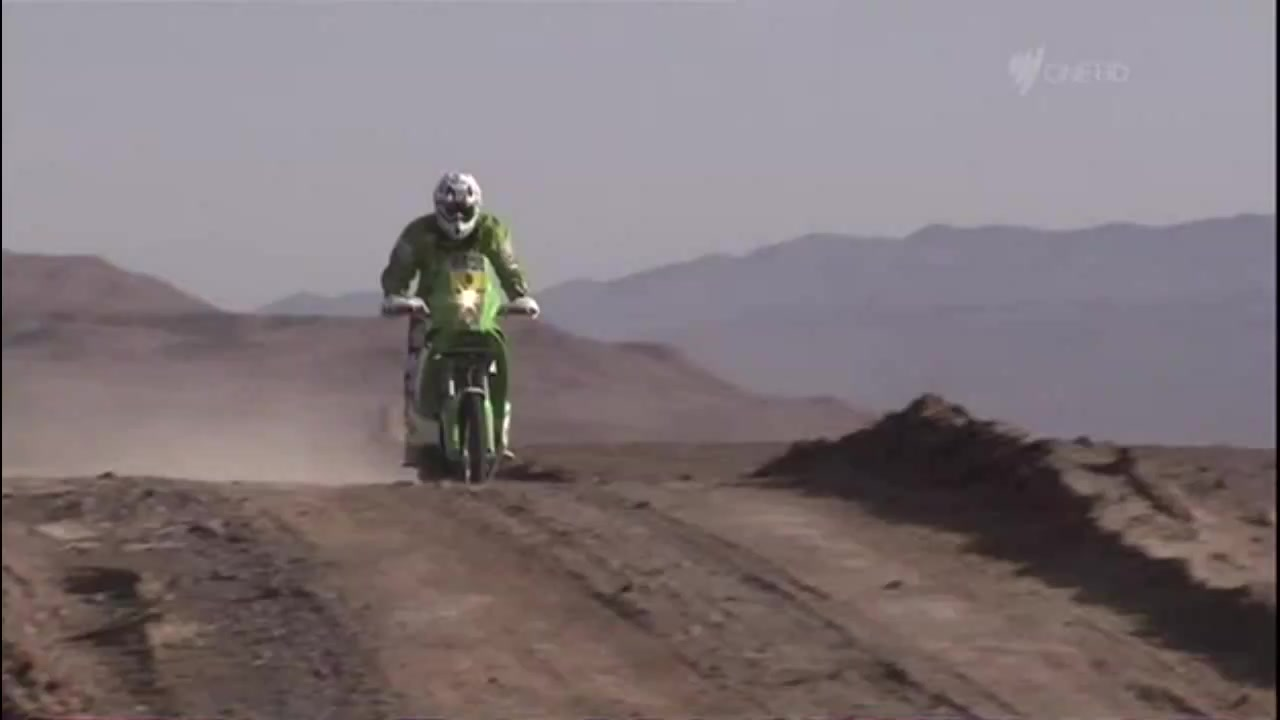motorbike: (382, 274, 542, 490)
